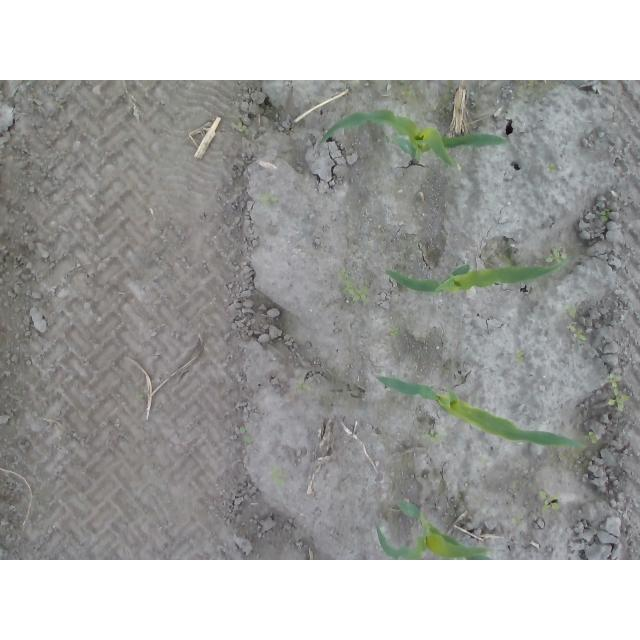Maize: (367, 370, 588, 451), (315, 110, 509, 170), (375, 500, 494, 561), (384, 258, 569, 295)
Weeds: (340, 268, 369, 305), (609, 374, 631, 411), (567, 304, 588, 342), (540, 489, 561, 512), (257, 192, 279, 208), (270, 465, 286, 487), (545, 249, 563, 264), (424, 429, 441, 443), (589, 429, 599, 443), (545, 163, 557, 174), (515, 350, 525, 363), (600, 210, 609, 223), (238, 427, 247, 438), (389, 328, 401, 336)
